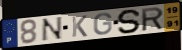8: (19, 19, 39, 46)
G: (93, 12, 114, 36)
K: (71, 15, 88, 38)
N: (40, 16, 64, 43)
R: (141, 6, 165, 32)
S: (116, 9, 143, 35)
